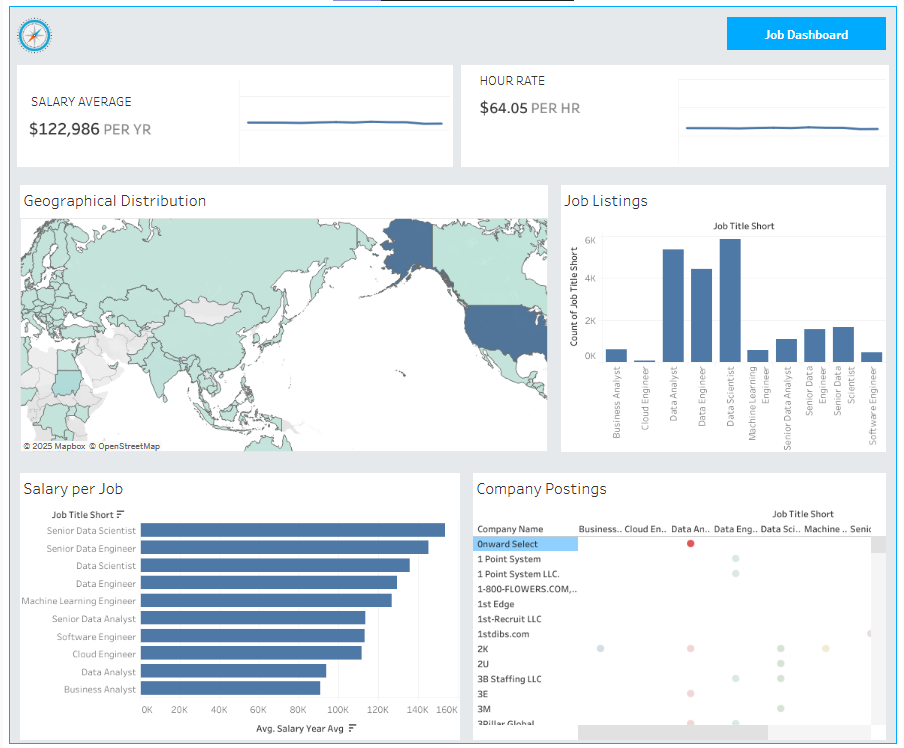

The page's visual inventory and layout, read from the dashboard file:
{"tool":"tableau","page":{"name":"Summary Dashboard","canvas":[1200,1000],"ordinal":1},"visuals":[{"type":"blank","box":[9,9,1182,10]},{"type":"image","param":"C:/Users/user/Downloads/Sales Dashboard/projects/sales-dashboard-project/images/","box":[9,19,75,57]},{"type":"blank","box":[84,19,877,57]},{"type":"dashboard-object","box":[961,19,220,52]},{"type":"blank","box":[9,76,1182,10]},{"type":"blank","box":[9,86,10,137]},{"type":"worksheet","title":"Salary KPI","mark":"Automatic","box":[19,86,291,137]},{"type":"worksheet","title":"Salary Average","mark":"Automatic","rows":["salary_year_avg"],"cols":["job_posted_date"],"box":[310,86,290,137]},{"type":"blank","box":[600,86,10,137]},{"type":"worksheet","title":"Hour Rate KPI ","mark":"Text","box":[610,86,286,137]},{"type":"worksheet","title":"Hour Rate","mark":"Automatic","rows":["salary_hour_avg"],"cols":["job_posted_date"],"box":[896,86,285,137]},{"type":"blank","box":[1181,86,10,137]},{"type":"blank","box":[9,223,1182,20]},{"type":"blank","box":[9,243,10,364]},{"type":"worksheet","title":"Map Summary","mark":"Multipolygon","box":[19,243,711,364]},{"type":"blank","box":[730,243,10,364]},{"type":"worksheet","title":"Job Listings","mark":"Automatic","rows":["job_title_short"],"cols":["job_title_short"],"box":[740,243,440.9,364]},{"type":"blank","box":[1180.9,243,10,364]},{"type":"blank","box":[9,607,1182,20]},{"type":"blank","box":[9,627,10,364]},{"type":"worksheet","title":"Job Salary","mark":"Bar","rows":["job_title_short"],"cols":["salary_year_avg"],"box":[19,627,594,364]},{"type":"blank","box":[613,627,10,364]},{"type":"worksheet","title":"Company Listings","mark":"Circle","rows":["company_name"],"cols":["job_title_short"],"box":[623,627,558,364]},{"type":"blank","box":[1181,627,10,364]}]}

Visuals, with their boxes in screenshot pixels (x1, y1, x2, y2), scaled from the page's 1200x1000 canvas onto the 904x748 screenshot:
blank: x1=7, y1=7, x2=897, y2=14
image: x1=7, y1=14, x2=63, y2=57
blank: x1=63, y1=14, x2=724, y2=57
dashboard-object: x1=724, y1=14, x2=890, y2=53
blank: x1=7, y1=57, x2=897, y2=64
blank: x1=7, y1=64, x2=14, y2=167
"Salary KPI" worksheet: x1=14, y1=64, x2=234, y2=167
"Salary Average" worksheet: x1=234, y1=64, x2=452, y2=167
blank: x1=452, y1=64, x2=460, y2=167
"Hour Rate KPI " worksheet (Text marks): x1=460, y1=64, x2=675, y2=167
"Hour Rate" worksheet: x1=675, y1=64, x2=890, y2=167
blank: x1=890, y1=64, x2=897, y2=167
blank: x1=7, y1=167, x2=897, y2=182
blank: x1=7, y1=182, x2=14, y2=454
"Map Summary" worksheet (Multipolygon marks): x1=14, y1=182, x2=550, y2=454
blank: x1=550, y1=182, x2=557, y2=454
"Job Listings" worksheet: x1=557, y1=182, x2=890, y2=454
blank: x1=890, y1=182, x2=897, y2=454
blank: x1=7, y1=454, x2=897, y2=469
blank: x1=7, y1=469, x2=14, y2=741
"Job Salary" worksheet (Bar marks): x1=14, y1=469, x2=462, y2=741
blank: x1=462, y1=469, x2=469, y2=741
"Company Listings" worksheet (Circle marks): x1=469, y1=469, x2=890, y2=741
blank: x1=890, y1=469, x2=897, y2=741
